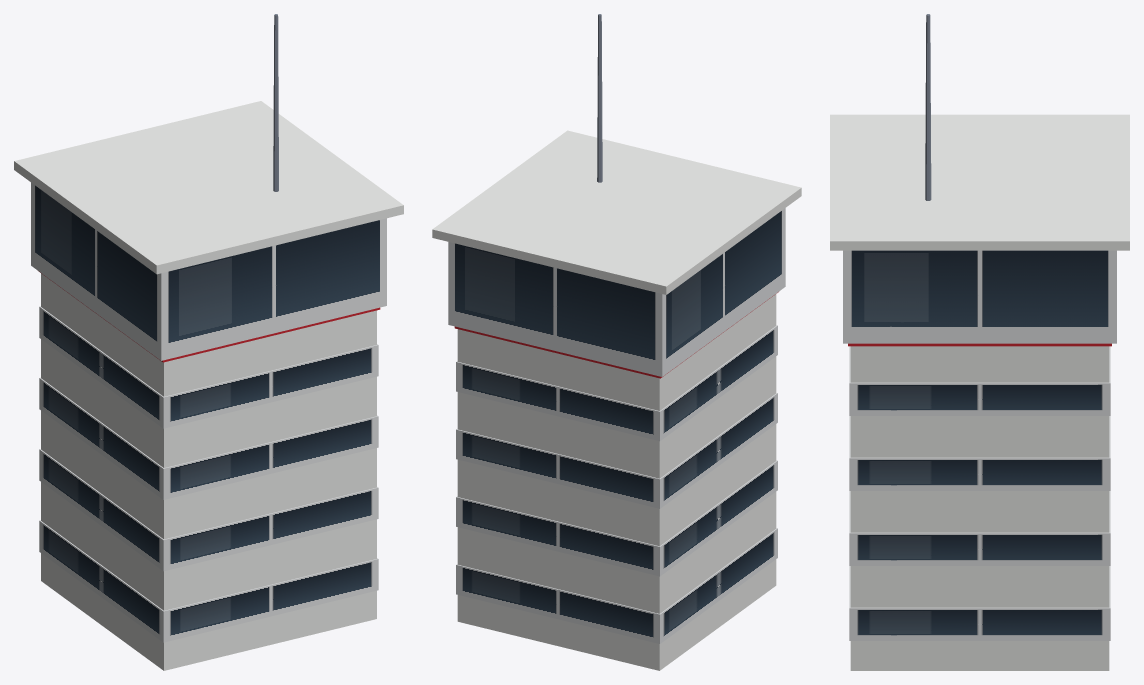
The model's file is race_control.glb.
The picture shows the model from 3 angles, left to right: view 1: azimuth 30°, elevation 25°; view 2: azimuth 150°, elevation 25°; view 3: azimuth 270°, elevation 25°; orthographic projection. The views are drawn at different scales.
Visible parts, largest first — view 1: racecontrol; view 2: racecontrol; view 3: racecontrol.
Boxes of the visible parts, box(x1,y1,x2,y2) form: racecontrol: box(14, 14, 403, 670); racecontrol: box(432, 14, 801, 670); racecontrol: box(830, 14, 1129, 670).
Size of the model in its own units: 11.6 by 26.6 by 11.6.
4 materials, 1 textured.
